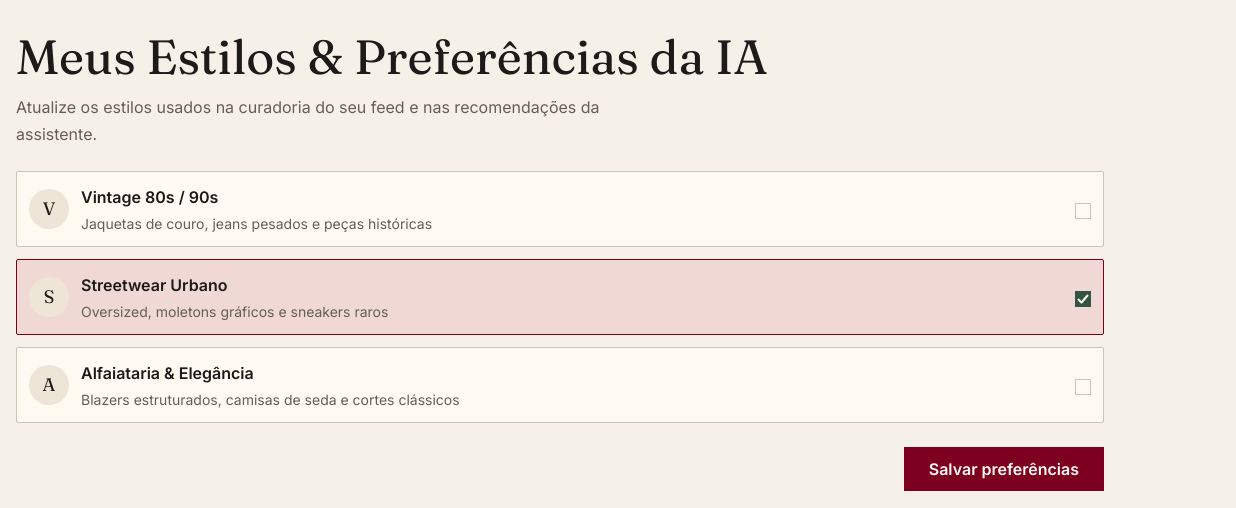
Test case: <ProfilePreferences /> › apresenta feedback acessível pelo sistema de toast após salvar com sucesso
Click the button "Salvar preferências" at (1004, 469), box [904, 447, 1104, 491]
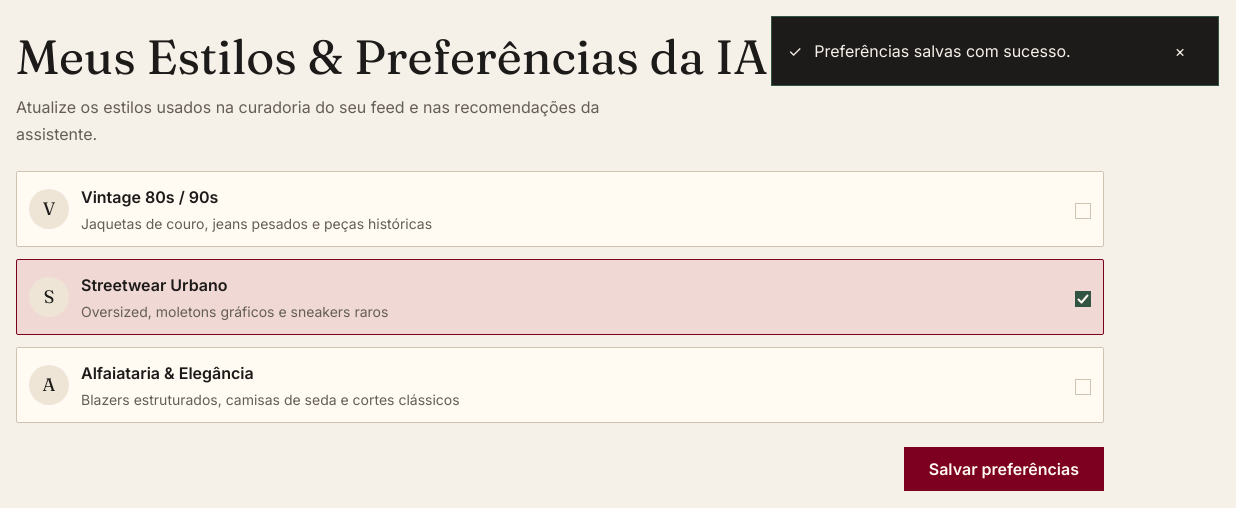
Expected: the message reads "✓ Preferências salvas com sucesso. ×", [814, 41, 1071, 61]
